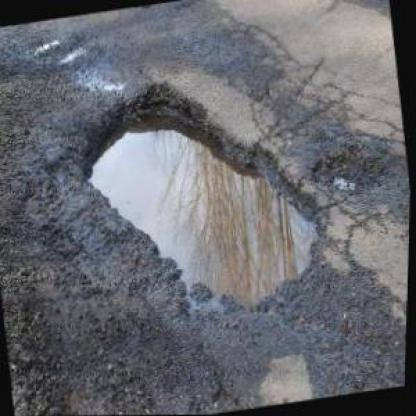pothole: (69, 57, 341, 337), (309, 133, 398, 200)
